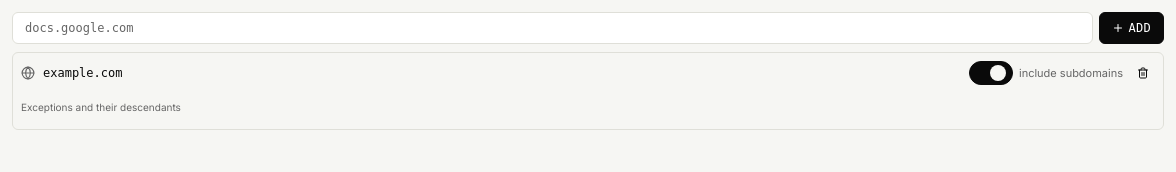
Test: WebsiteRuleList › displays legacy URL strings with their existing normalized domain semantics
Expected: the text "example.com" is shown, left=43, top=66, right=122, bottom=80
Type "example.com" into the field named "Hostname to block". click: (553,28)
box: left=12, top=12, right=1093, bottom=44
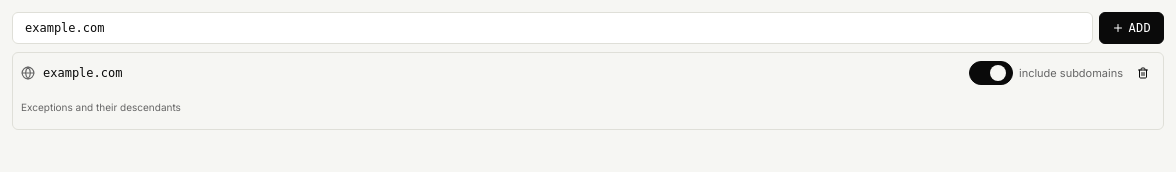
Click the button "add". click: (1132,28)
box: left=1099, top=12, right=1164, bottom=44
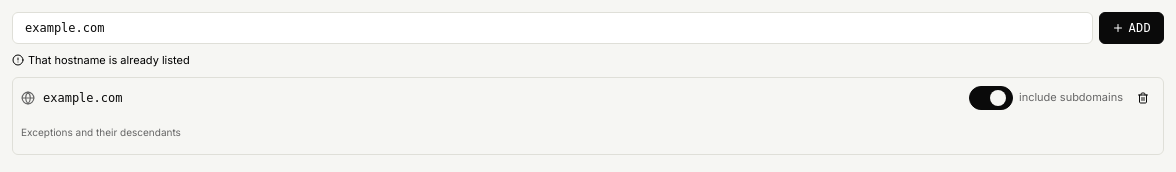
Now the message shows "already listed", box left=28, top=53, right=190, bottom=67
